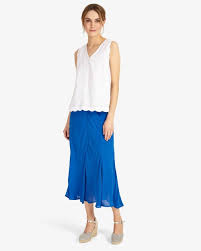C_skirt: (61, 100, 130, 211)
C_tank top: (72, 42, 119, 103)
